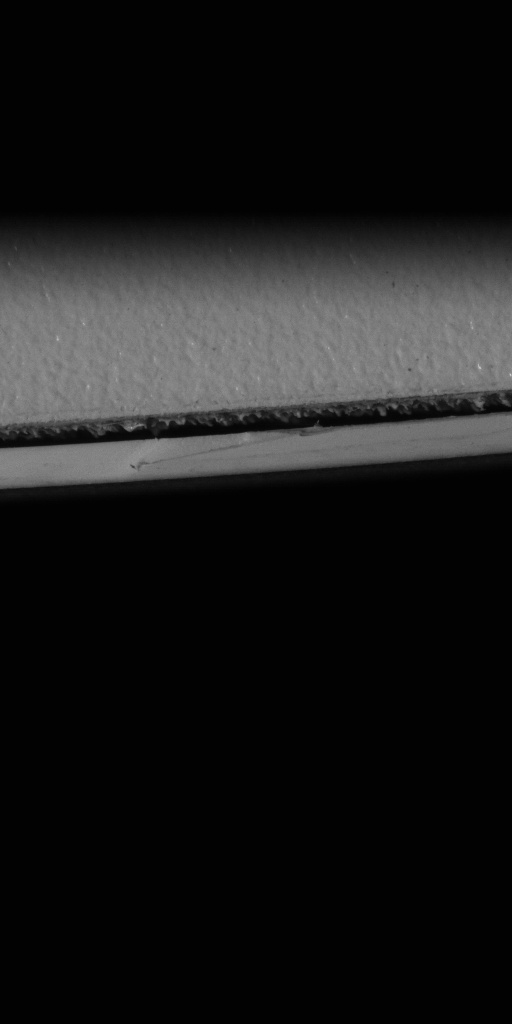kaijiao: (0, 380, 511, 496)
